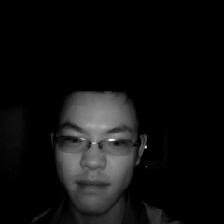normal: (37, 70, 161, 224)
